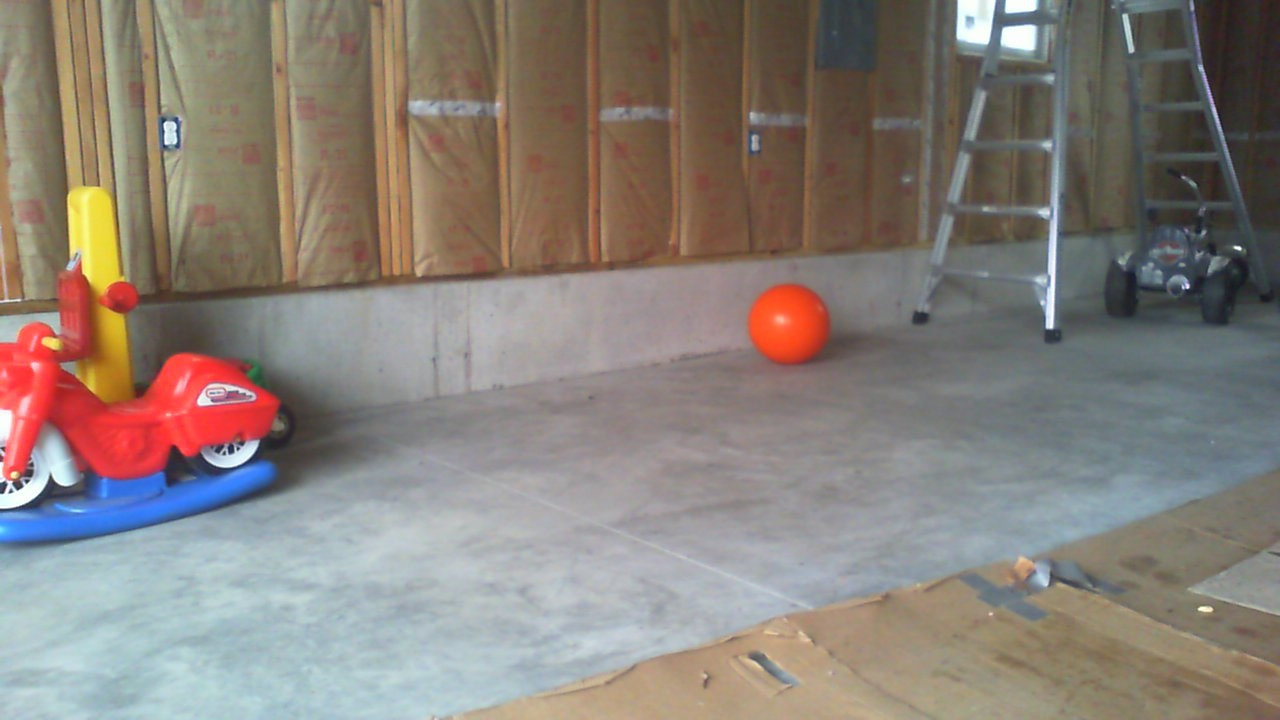Ball: (748, 284, 829, 364)
